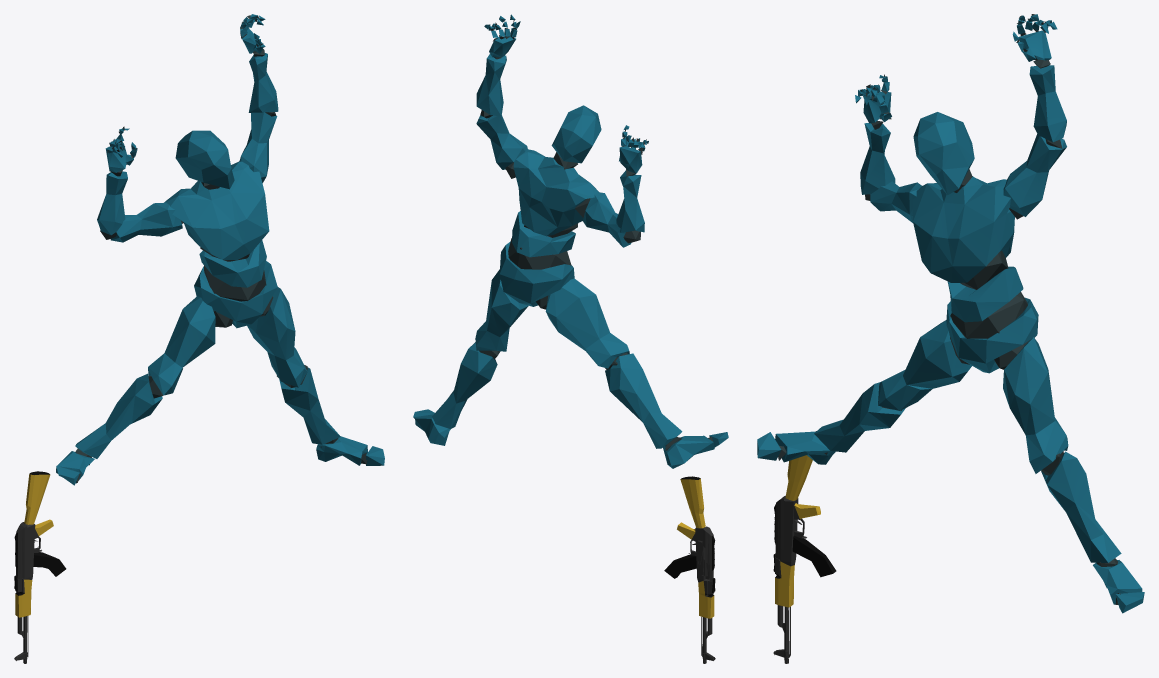
File: EnemyDying_000133.obj
3 renders of one model, left to right at view 1: azimuth 30°, elevation 25°; view 2: azimuth 150°, elevation 25°; view 3: azimuth 330°, elevation 25°, orthographic. The views are drawn at different scales.
Visible parts, largest first — view 1: Alpha_Surface, AK-47_Cube, Alpha_Joints; view 2: Alpha_Surface, AK-47_Cube, Alpha_Joints; view 3: Alpha_Surface, AK-47_Cube, Alpha_Joints.
Boxes of the visible parts, x1=… form: Alpha_Surface: x1=56, y1=14, x2=384, y2=485; AK-47_Cube: x1=14, y1=471, x2=66, y2=663; Alpha_Joints: x1=75, y1=15, x2=368, y2=482; Alpha_Surface: x1=413, y1=14, x2=728, y2=468; AK-47_Cube: x1=664, y1=476, x2=715, y2=663; Alpha_Joints: x1=479, y1=19, x2=712, y2=450; Alpha_Surface: x1=757, y1=14, x2=1144, y2=613; AK-47_Cube: x1=773, y1=455, x2=836, y2=663; Alpha_Joints: x1=778, y1=14, x2=1120, y2=604.
Size of the model in its own units: 315 by 537 by 70.24.
